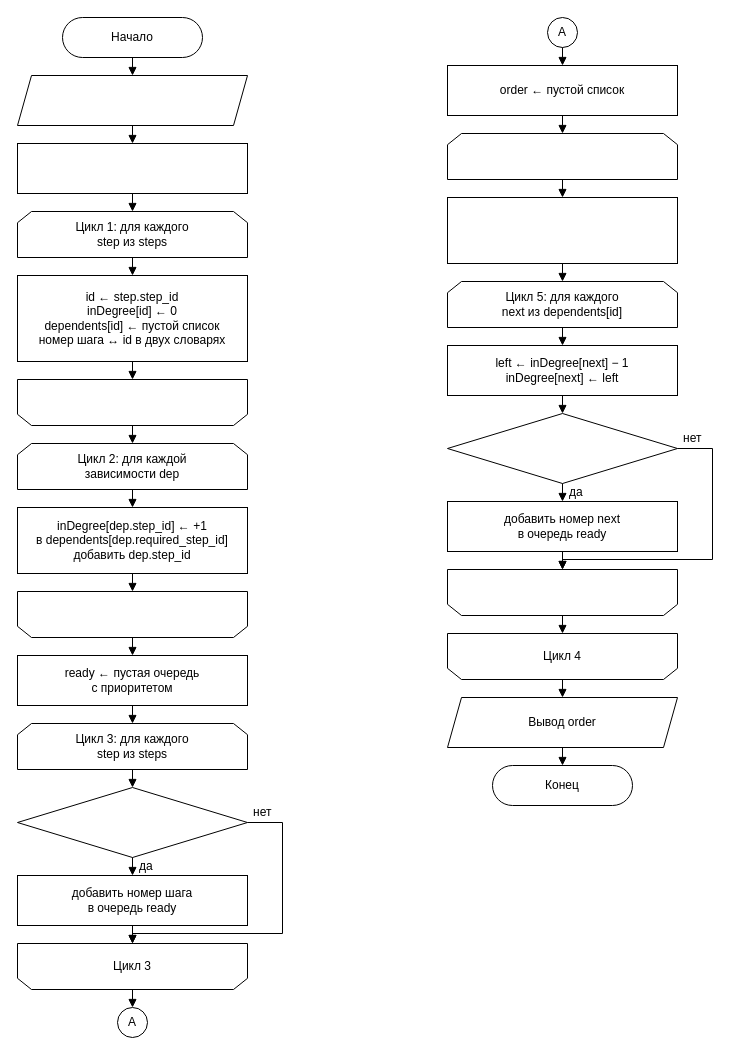
Some shapes in this 739 by 1055 pixel diagram are drawn without their labels. The shapes that lost their labels are listed below. From the top down, each one's centre as x and y in pixels, then its label:
the point at 132,100: Ввод steps, dependencies
the point at 132,168: inDegree, dependents, словари номеров ← пустые
the point at 562,156: Цикл 4: пока очередь ready не пуста
the point at 562,230: id ← шаг с наименьшим номером, извлечённый из ready добавить id в order
the point at 132,402: Цикл 1
the point at 562,448: left = 0?
the point at 562,592: Цикл 5
the point at 132,614: Цикл 2
the point at 132,822: inDegree[step_id] = 0?
